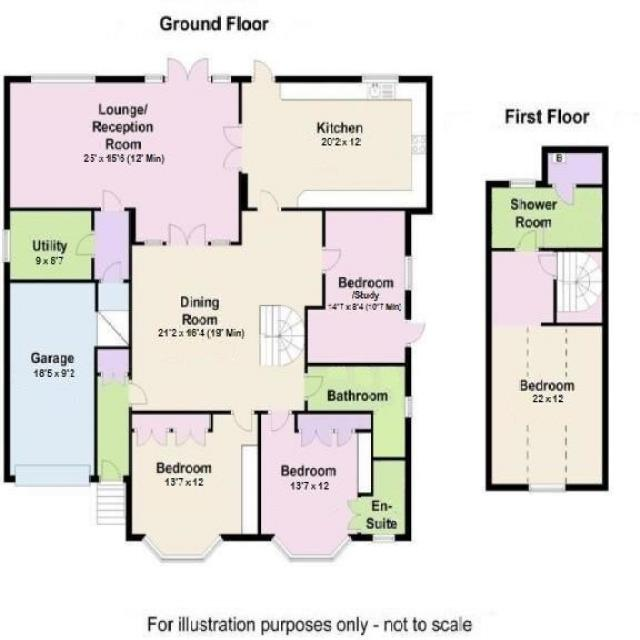DOOR: (125, 410, 261, 564), (229, 409, 256, 433), (537, 252, 558, 282), (256, 188, 282, 212), (97, 261, 125, 283), (304, 372, 324, 402), (322, 245, 342, 275), (128, 378, 148, 408), (267, 409, 293, 432), (99, 189, 126, 211)
DOUBLE DOOR: (166, 54, 211, 83), (167, 220, 208, 247), (221, 123, 243, 171)
ROOM: (222, 58, 433, 216), (485, 229, 609, 491), (304, 207, 427, 368), (257, 410, 374, 563)
WINDOW: (269, 533, 354, 564), (140, 533, 225, 564), (28, 73, 97, 84), (360, 73, 401, 85), (527, 482, 567, 493), (404, 254, 412, 292), (372, 533, 396, 542), (404, 395, 412, 419)
